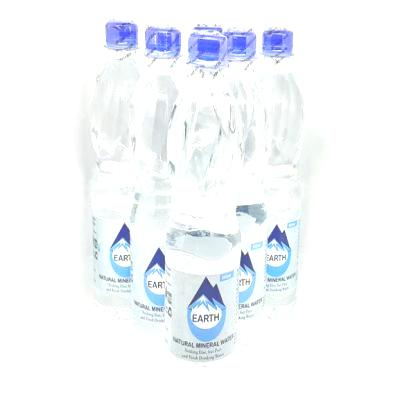bottle: (166, 36, 242, 404), (81, 9, 143, 332), (254, 22, 306, 333), (136, 20, 178, 365), (234, 17, 262, 357)
